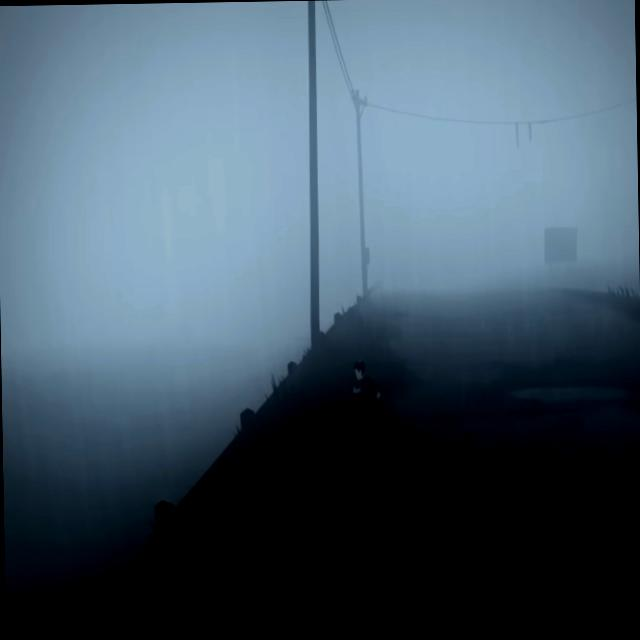boy: (352, 358, 396, 429)
